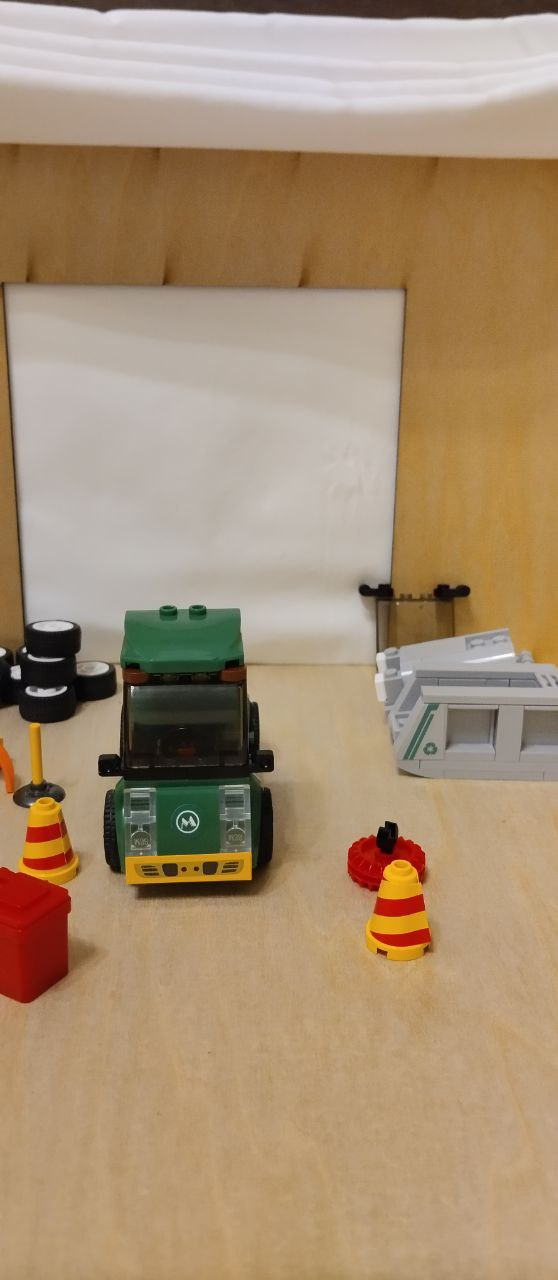Cone: (364, 858, 440, 962), (17, 790, 81, 886)
Object Red: (1, 867, 80, 1008)
Truck: (96, 603, 286, 903)
